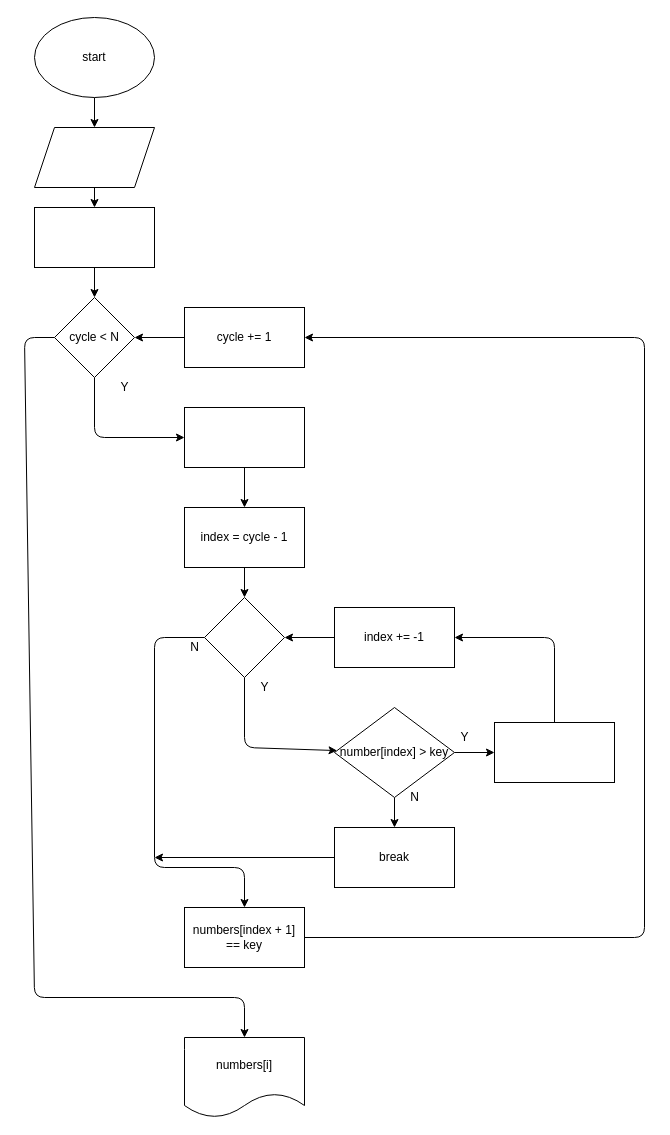
Image size: 670x1135. Some labels were removed from this diagram. Here are the shapes that lost their labels. From the top down, the centre of each, then its label:
At pixel 94 157: "N numbers".
At pixel 94 237: "cycle = 1".
At pixel 244 437: "key = numbers[cycle]".
At pixel 244 637: "index > -1".
At pixel 554 752: "numbers[index + 1] = number[index]".
